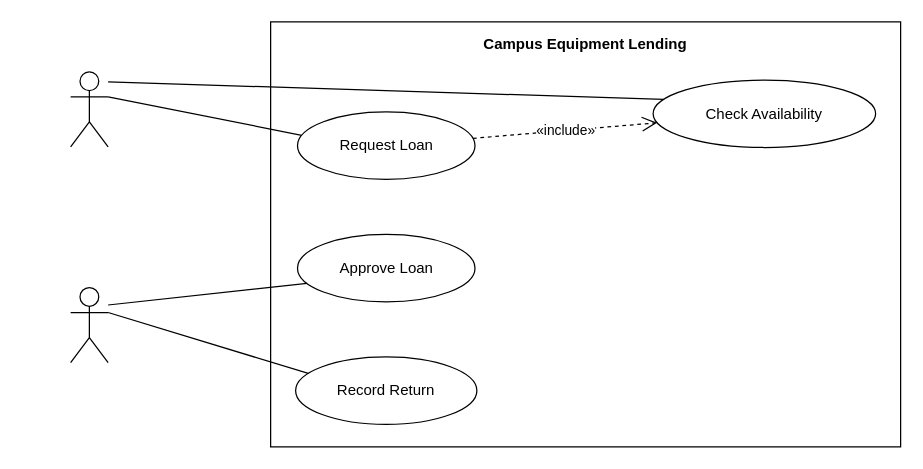
Some shapes in this 923 by 469 pixel diagram are drawn without their labels. Here are the shapes that lost their labels. From the top down, the centre of each, then its label:
pixel 88 109: Borrower
pixel 88 324: Equipment Manager
